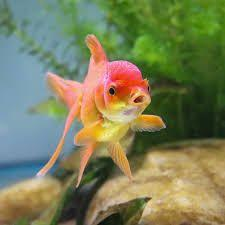Gold Fish: (38, 33, 166, 191)
